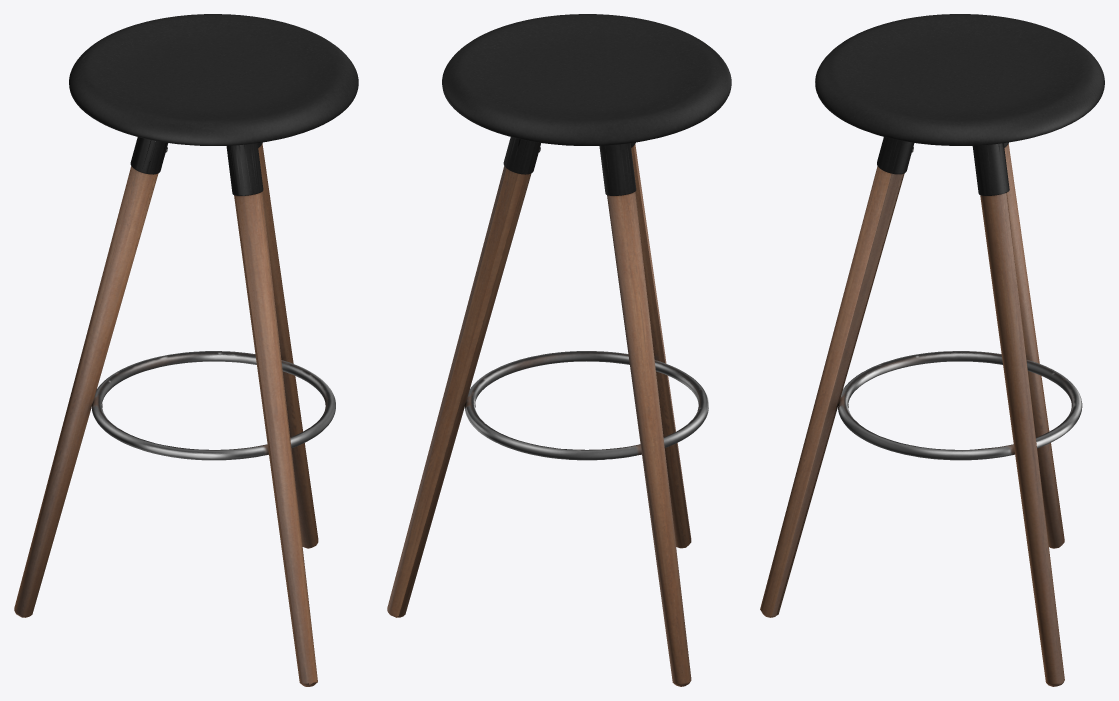
The model's file is raw_model.obj.
3 views of the same model, side by side, from view 1: azimuth 30°, elevation 25°; view 2: azimuth 150°, elevation 25°; view 3: azimuth 270°, elevation 25° (orthographic).
Visible parts, largest first — view 1: solid_002, solid_001, solid_003; view 2: solid_002, solid_001, solid_003; view 3: solid_002, solid_001, solid_003.
Boxes of the visible parts, box(x1,y1,x2,y2) form: solid_002: box(69, 14, 358, 195); solid_001: box(14, 143, 318, 686); solid_003: box(91, 147, 335, 460); solid_002: box(442, 14, 731, 195); solid_001: box(387, 144, 691, 686); solid_003: box(465, 147, 708, 460); solid_002: box(815, 14, 1104, 195); solid_001: box(760, 144, 1064, 686); solid_003: box(838, 147, 1082, 460).
Bounding box in the file's own units: 0.4465 × 0.7747 × 0.4419.
1 material, 1 textured.
